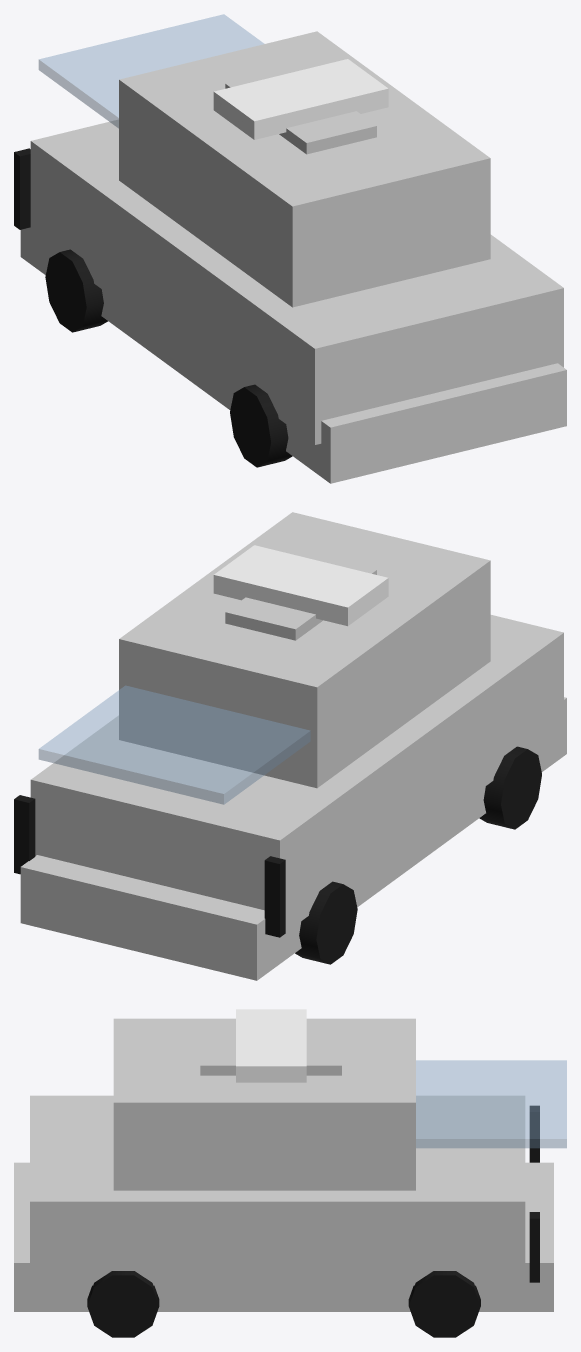
Rendered from nyc-yellow-taxi.glb.
3 views of the same model, one above another, from view 1: azimuth 30°, elevation 25°; view 2: azimuth 150°, elevation 25°; view 3: azimuth 270°, elevation 25° (orthographic). The views are drawn at different scales.
Parts seen in each view (by area): view 1: NYCYellowTaxi; view 2: NYCYellowTaxi; view 3: NYCYellowTaxi.
Boxes of the visible parts, x1=… form: NYCYellowTaxi: x1=14, y1=14, x2=566, y2=483; NYCYellowTaxi: x1=14, y1=512, x2=566, y2=980; NYCYellowTaxi: x1=14, y1=1009, x2=566, y2=1337.
Bounding box in the file's own units: 2.12 × 2.08 × 4.3.
